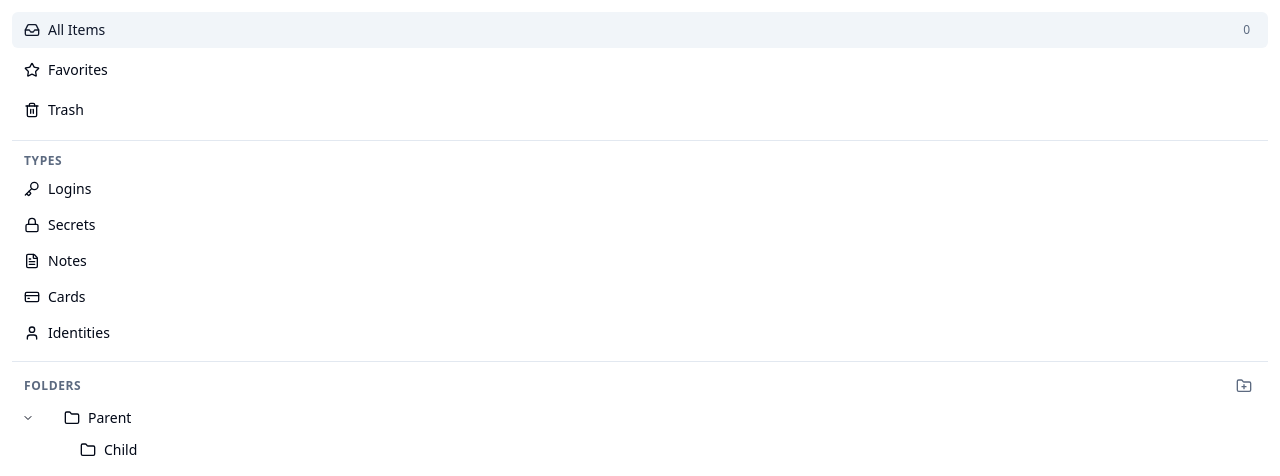
Test: FolderRail - expand/collapse nested folders › collapses children when the expand/collapse chevron is clicked
Expected: the text "Child" is shown, [104, 440, 137, 459]
Click the button named "Collapse folder": click(28, 418) [20, 410, 36, 426]
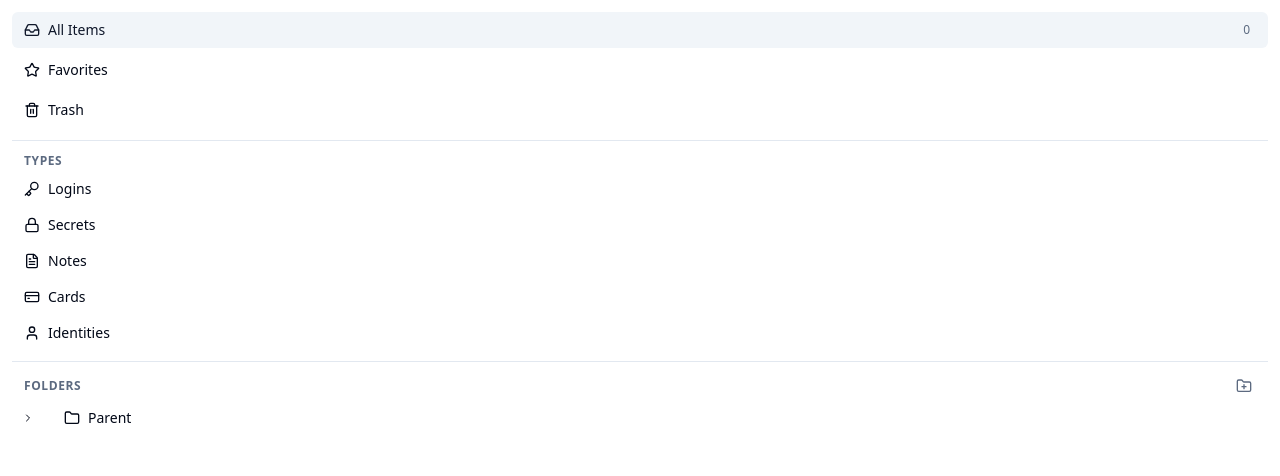
Expected: the button "Child" is gone
